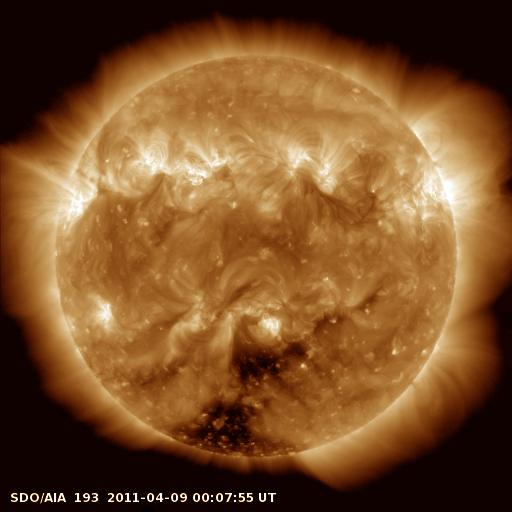coronal_hole: (165, 324, 314, 457)
